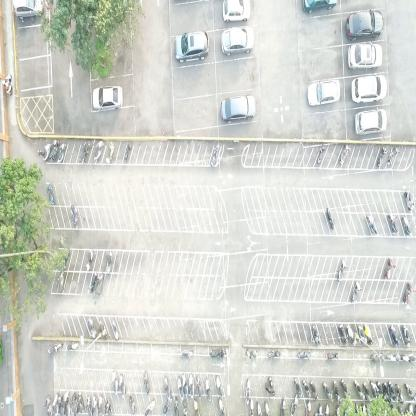car: (345, 9, 384, 43), (174, 28, 210, 63), (350, 73, 388, 105), (220, 92, 256, 124), (219, 26, 254, 57), (306, 78, 341, 108), (347, 42, 382, 72), (354, 108, 388, 136), (92, 84, 124, 111), (220, 0, 251, 23), (13, 0, 44, 22), (300, 0, 338, 15)
